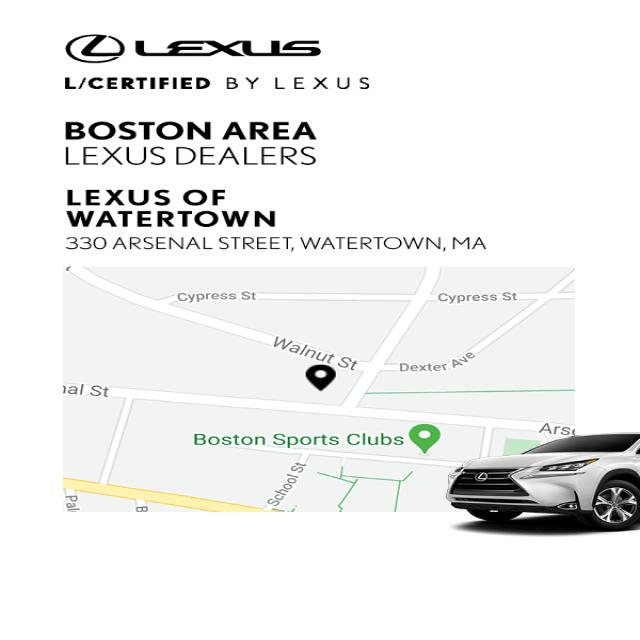Animation Frames: (63, 265, 429, 406), (93, 396, 488, 514), (354, 266, 576, 430)
Background Image: (2, 1, 637, 636)
Map or Location Image: (61, 264, 577, 514)
Seal or Badge: (445, 432, 638, 530)
Text Elements: (62, 119, 318, 166), (64, 187, 276, 228), (64, 32, 322, 62), (63, 235, 487, 251), (63, 119, 317, 141), (62, 74, 371, 91), (190, 431, 406, 448), (133, 38, 321, 57), (271, 335, 359, 370), (262, 459, 308, 509), (62, 75, 210, 90), (397, 351, 476, 373), (436, 290, 518, 303), (175, 290, 257, 302), (62, 382, 110, 397), (535, 422, 576, 436)
